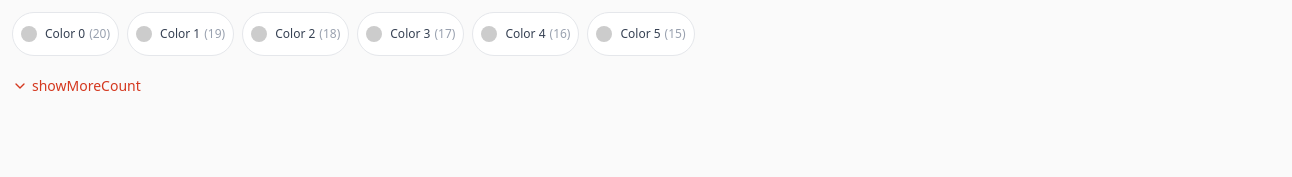
it: ColorFilter › expands inside a bounded scroll region instead of stretching the page
Click the button with aria-label "Show more colors" at (76, 86), box [12,64,141,108]
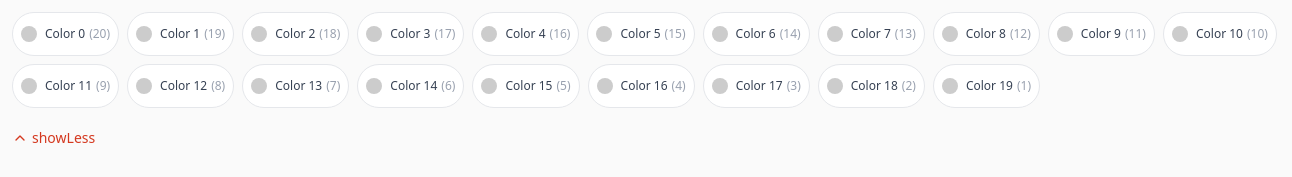
Now the button with aria-label "Filter by color Color 19" is shown, box [933,64,1040,108]
Now the button with aria-label "Show less colors" is shown, box [12,116,95,160]
